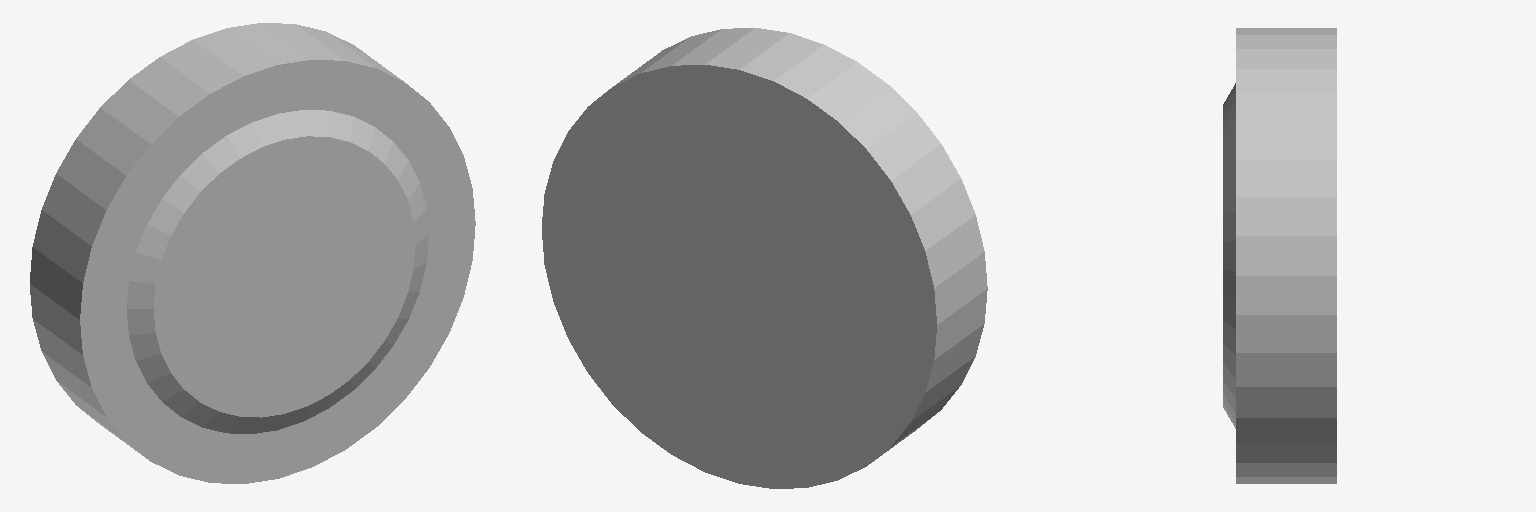
3 views of the same model, side by side, from view 1: azimuth 30°, elevation 25°; view 2: azimuth 150°, elevation 25°; view 3: azimuth 270°, elevation 25° (orthographic).
Parts seen in each view (by area): view 1: base.001; view 2: base.001; view 3: base.001.
Boxes of the visible parts, x1=… form: base.001: x1=30, y1=23, x2=475, y2=483; base.001: x1=542, y1=28, x2=987, y2=488; base.001: x1=1223, y1=28, x2=1336, y2=483.
Bounding box in the file's own units: 1632 × 1632 × 408.